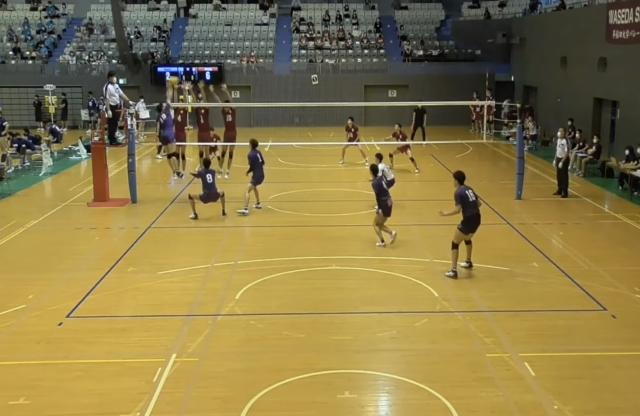spike: (154, 74, 184, 186)
